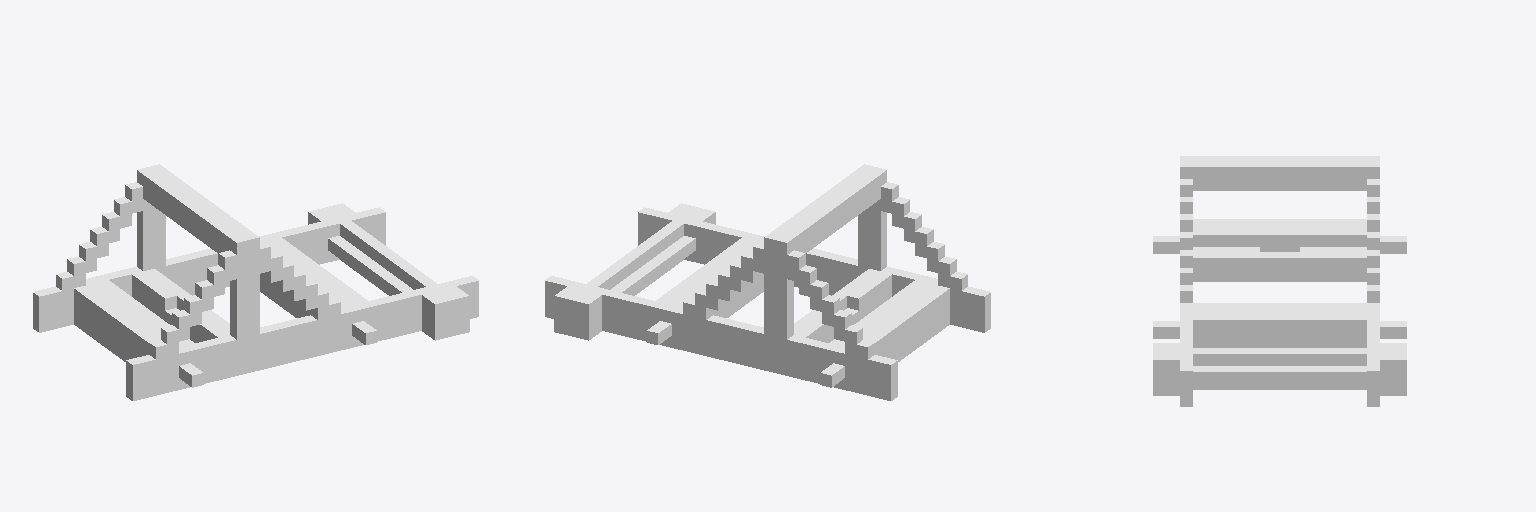
File: catapult-base.obj
3 views of the same model, side by side, from view 1: azimuth 30°, elevation 25°; view 2: azimuth 150°, elevation 25°; view 3: azimuth 270°, elevation 25° (orthographic).
Size of the model in its own units: 30 by 11 by 19.